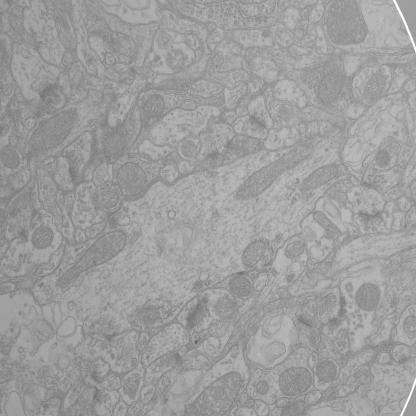mitochondria: (234, 144, 320, 204), (56, 227, 128, 290), (186, 370, 243, 416), (25, 107, 83, 152), (326, 0, 368, 50), (115, 160, 148, 198), (302, 160, 340, 190), (276, 365, 312, 396), (239, 237, 268, 270), (354, 280, 382, 314), (362, 71, 387, 104), (142, 92, 167, 124), (314, 355, 339, 383), (31, 223, 54, 251), (226, 273, 252, 296), (0, 144, 21, 170), (374, 146, 392, 169), (284, 239, 304, 258), (181, 138, 198, 158), (255, 378, 269, 397)
